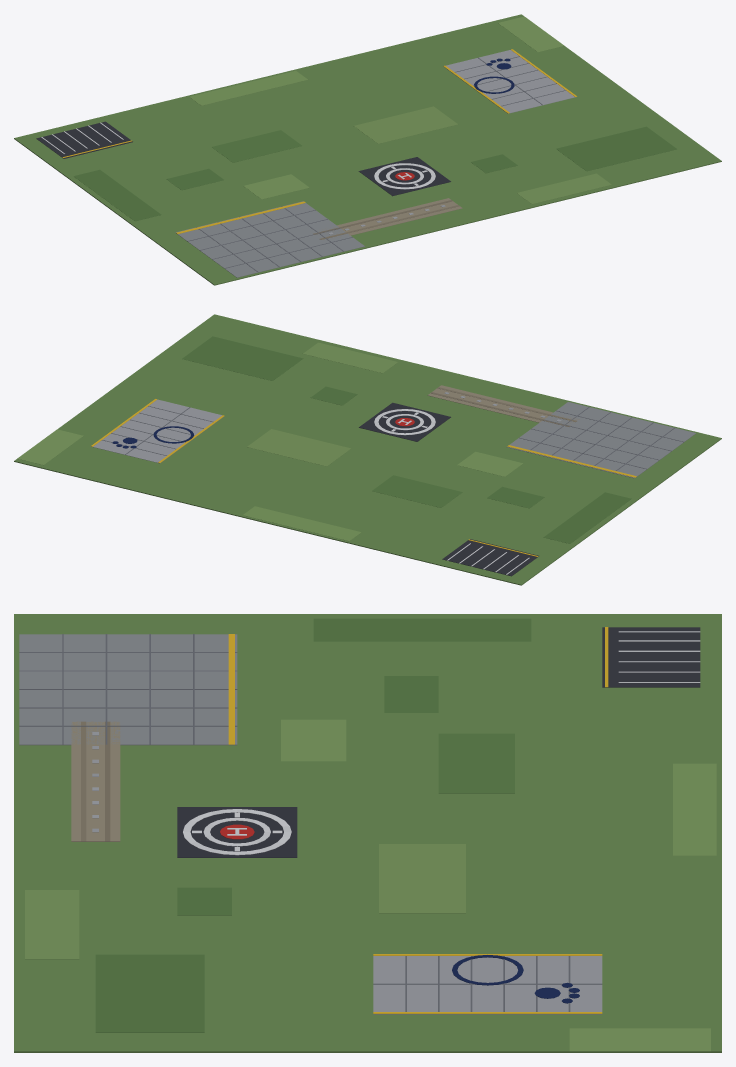
File: Decor_LaunchPad_Ground.fbx
The picture shows the model from 3 angles, top to bottom: view 1: azimuth 30°, elevation 25°; view 2: azimuth 150°, elevation 25°; view 3: azimuth 270°, elevation 25°; orthographic projection. The views are drawn at different scales.
Parts seen in each view (by area): view 1: Ground_Body; view 2: Ground_Body; view 3: Ground_Body.
Part boxes in pixels (x1,y1,x2,y2): Ground_Body: (14, 14, 721, 285); Ground_Body: (14, 314, 721, 585); Ground_Body: (14, 614, 721, 1052).
Size of the model in its own units: 190 by 0.5 by 130.
